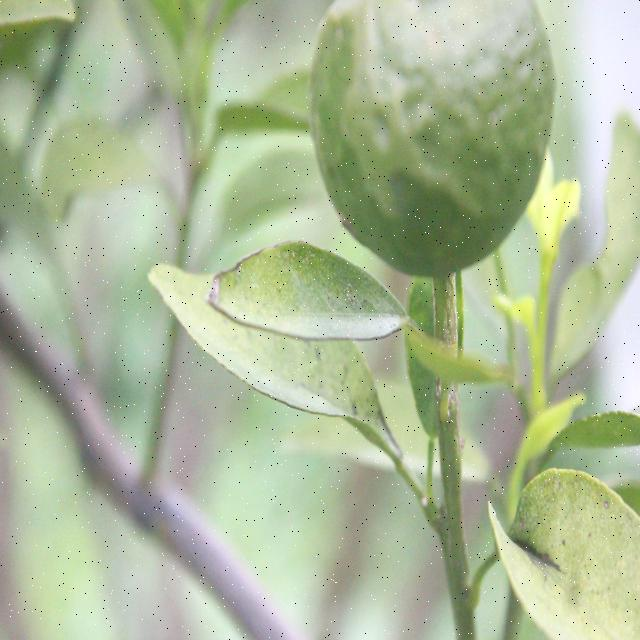blackspot: (529, 482, 640, 640), (235, 248, 394, 342), (304, 348, 380, 425)
